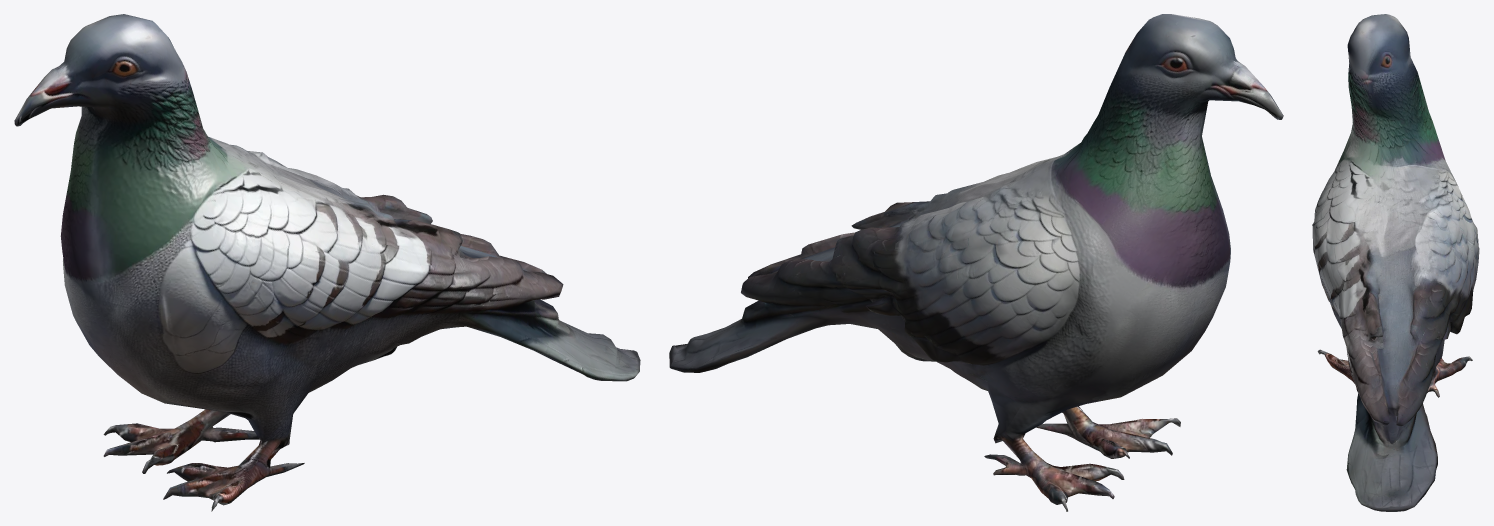
File: pigeon.glb
The picture shows the model from 3 angles, left to right: view 1: azimuth 30°, elevation 25°; view 2: azimuth 150°, elevation 25°; view 3: azimuth 270°, elevation 25°; orthographic projection. The views are drawn at different scales.
Size of the model in its own units: 2 by 1.47 by 0.6777.
Materials: 1 (1 with a texture image).
